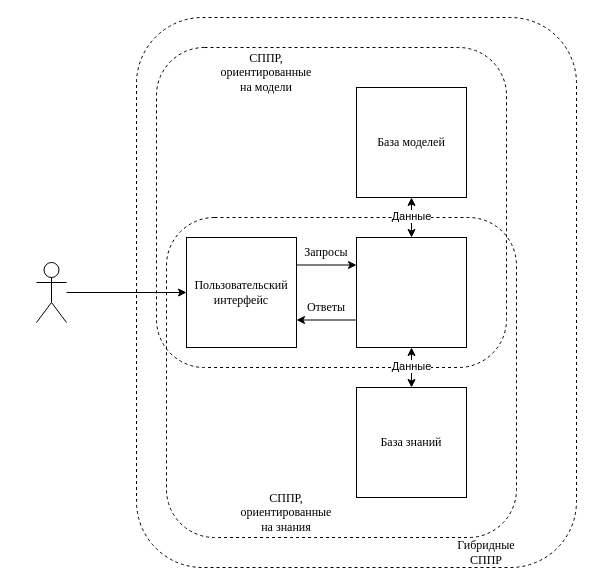
The diagram is 594 pixels wide and 585 high, and some of its shapes have lost their labels. The centre of each missing label's shape, as x and y in pixels:
Механизм логического вывода: (411,292)
Пользователь: (51,292)
